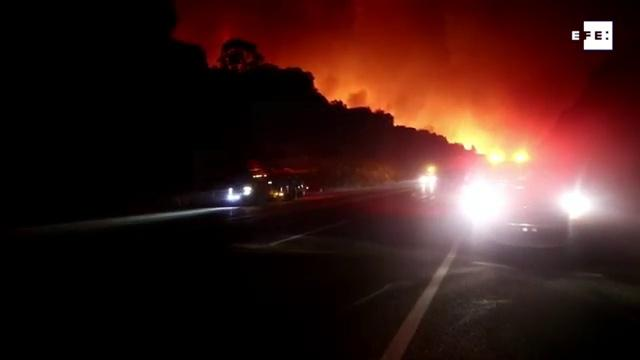fire: (456, 120, 486, 155), (491, 145, 533, 166)
